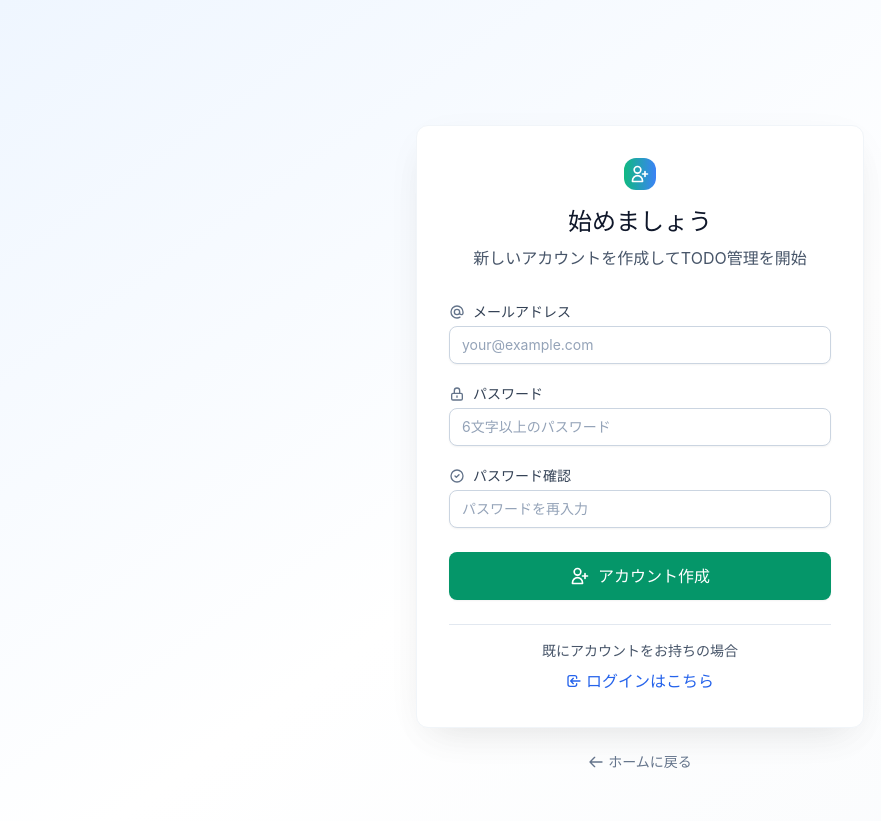
Scenario: SignupForm › バリデーション › パスワードが6文字未満でバリデーションエラーが表示される
Step 1. Type "12345" into the password field labelled "パスワード" → [640, 426], box [449,408,831,446]
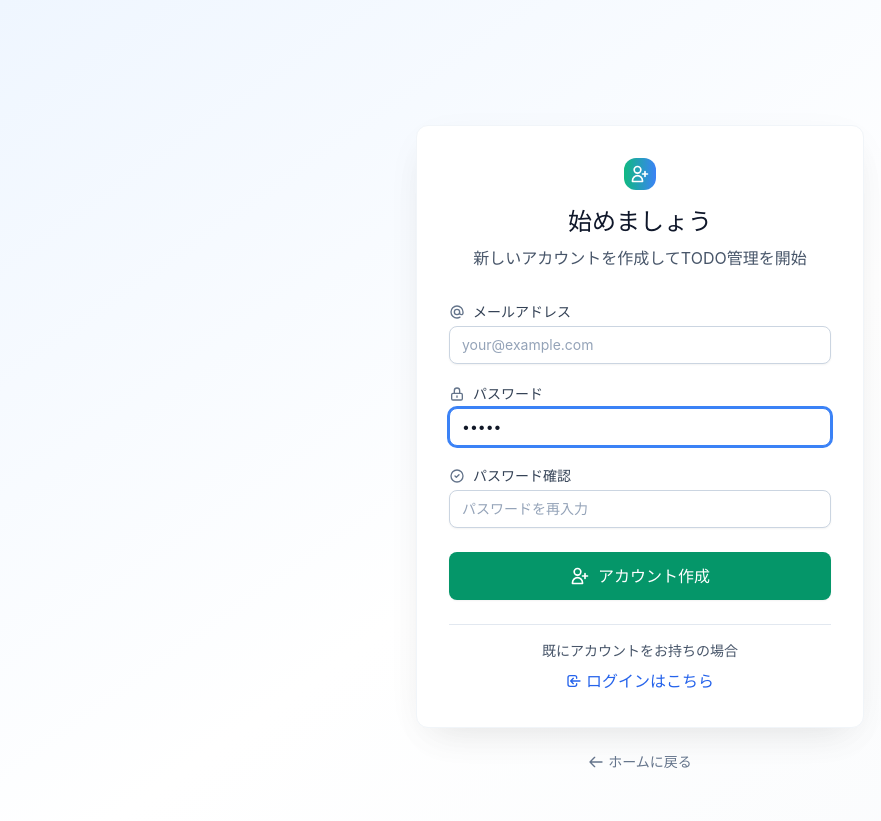
Step 2. Click the button "アカウント作成" → [640, 576], box [449,552,831,600]
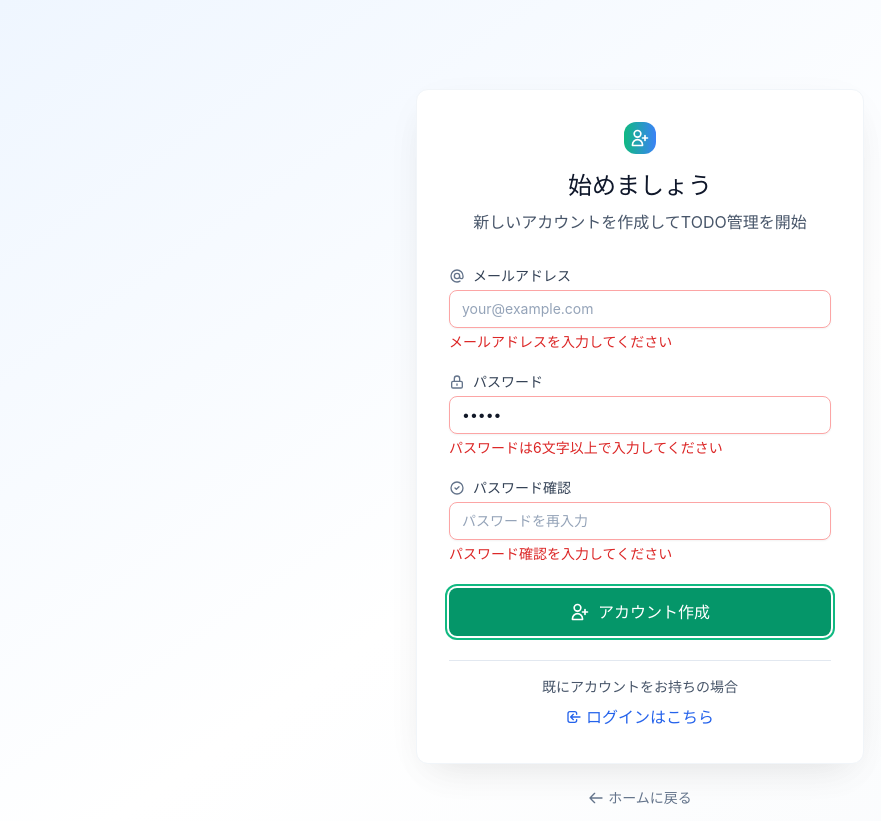
expect the text "パスワードは6文字以上で入力してください" is shown: met, box [449,438,723,456]
